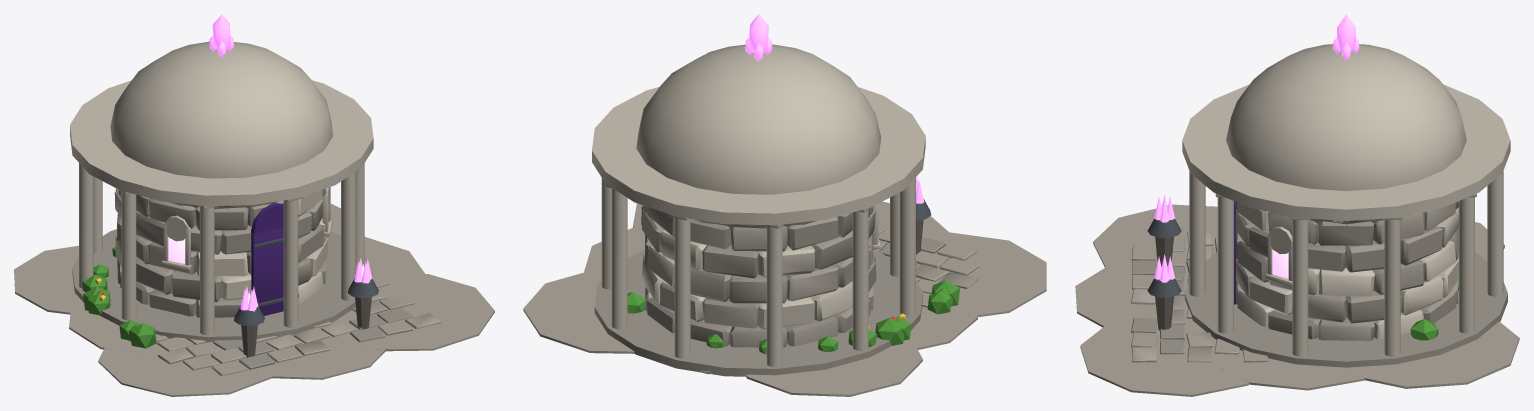
File: budynek_fuzji_poz12.glb
3 views of the same model, side by side, from view 1: azimuth 30°, elevation 25°; view 2: azimuth 150°, elevation 25°; view 3: azimuth 270°, elevation 25° (orthographic). The views are drawn at different scales.
Parts seen in each view (by area): view 1: budynek_fuzji_poz12; view 2: budynek_fuzji_poz12; view 3: budynek_fuzji_poz12.
Boxes of the visible parts, box(x1,y1,x2,y2) form: budynek_fuzji_poz12: box(14, 14, 494, 396); budynek_fuzji_poz12: box(523, 14, 1046, 396); budynek_fuzji_poz12: box(1075, 14, 1519, 396).
Bounding box in the file's own units: 8.92 × 6.42 × 8.79.
